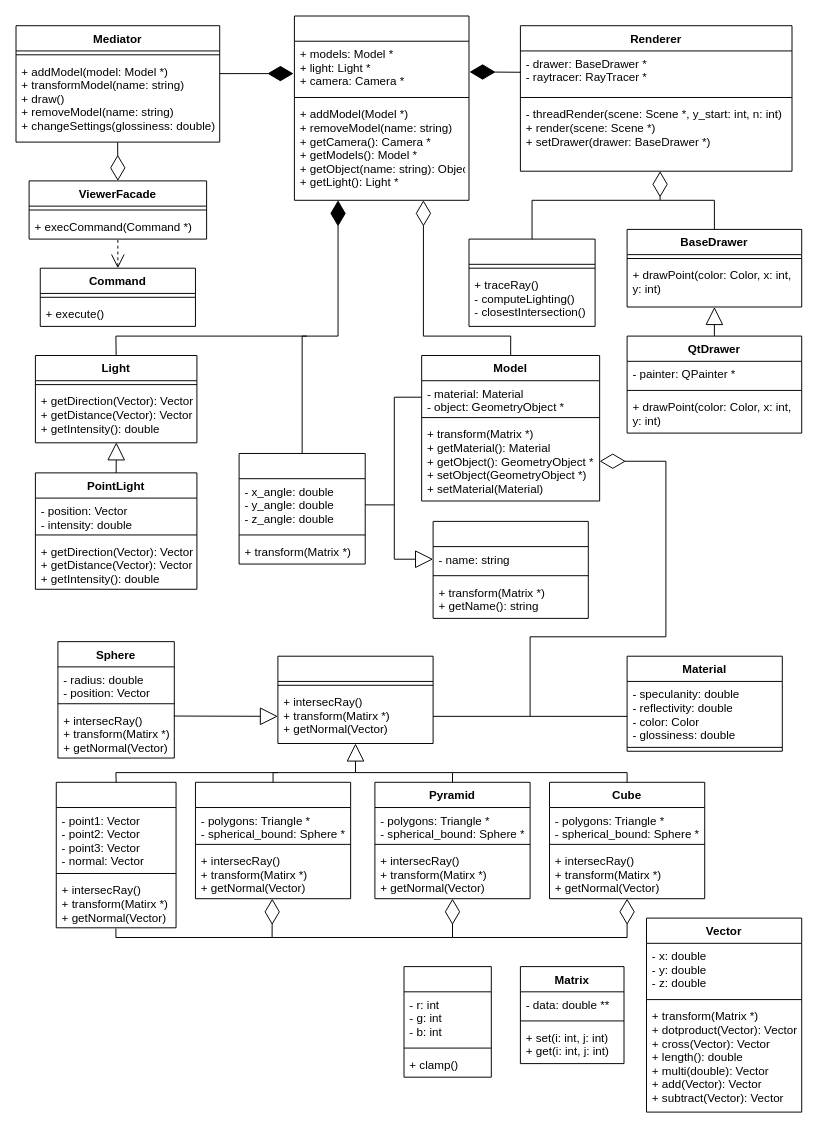
This 818x1128 diagram has some shape labels left out. Each missing label, with the box of its shape:
Camera: (238, 453, 365, 564)
Color: (403, 966, 491, 1077)
GeometricObject: (277, 655, 433, 744)
Prism: (194, 781, 351, 899)
RayTracer: (468, 238, 595, 326)
Scene: (293, 15, 469, 200)
SceneObject: (432, 520, 588, 618)
Triangle: (55, 781, 176, 928)
